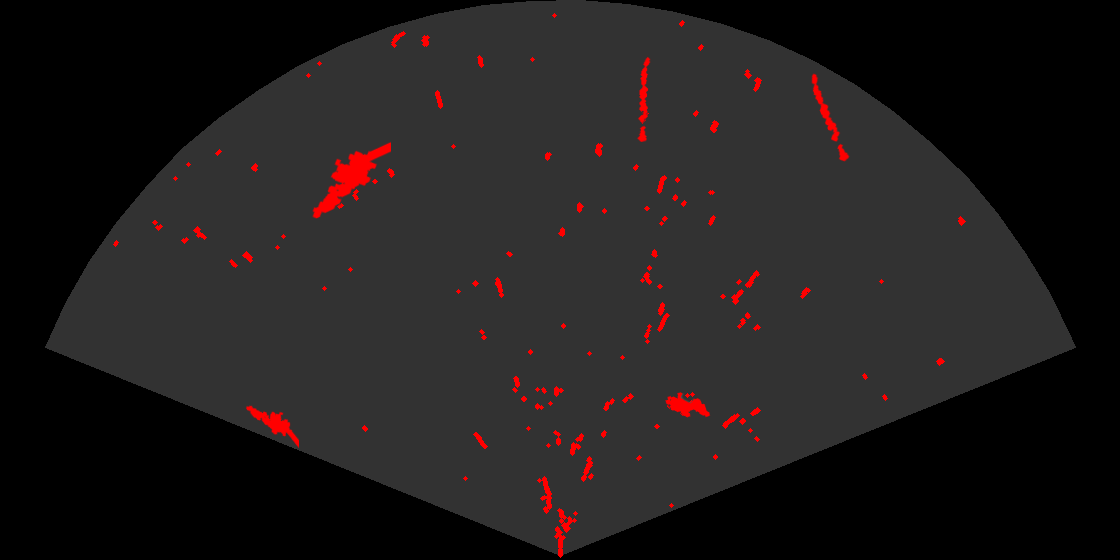AUV: (664, 391, 711, 419)
chain: (810, 72, 851, 163), (635, 55, 652, 142)
frogman: (311, 140, 391, 220), (244, 404, 299, 448)
